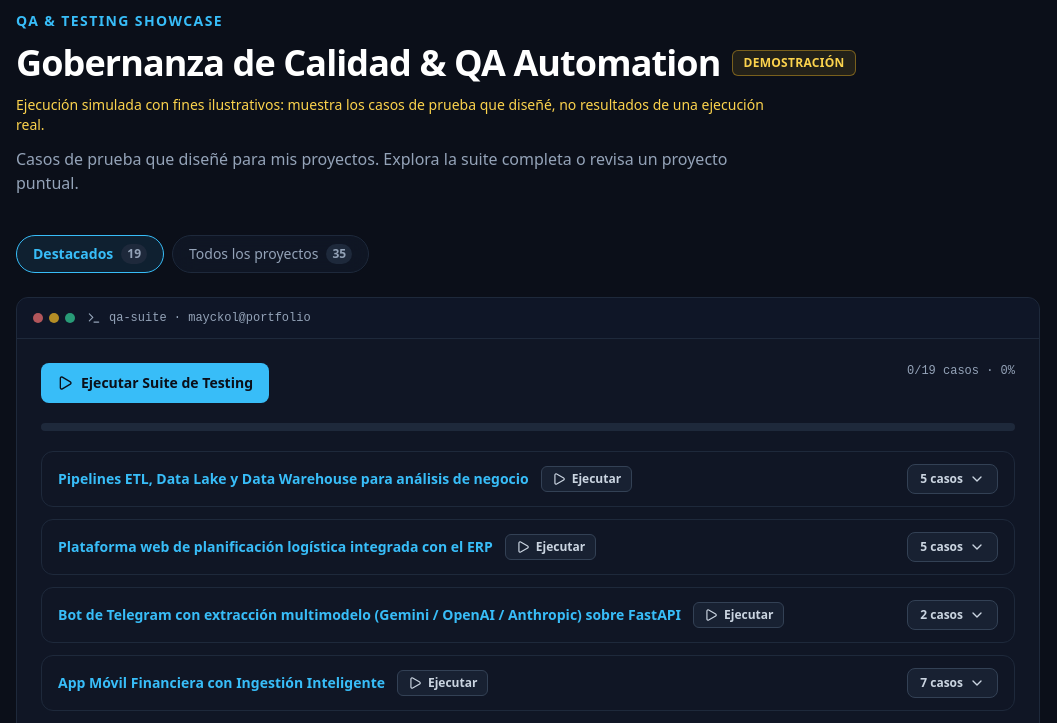
Scenario: QAShowcase › expande un grupo al pulsar su header y muestra los tags de tipo de prueba
Click the 1st button "5 casos" at [953, 479], box [907, 464, 998, 494]
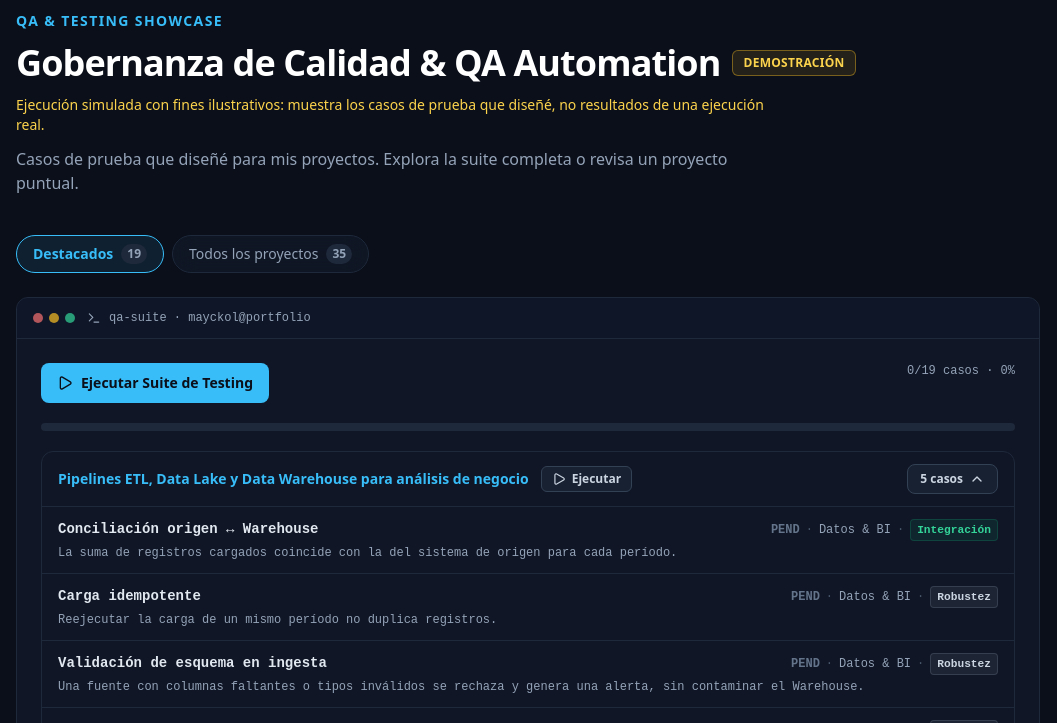
Expected: the button "5 casos" is expanded, [907, 464, 998, 494]
Expected: the text "Conciliación origen ↔ Warehouse" is shown, [58, 519, 318, 539]
Expected: the text "Integración" is shown, [910, 519, 998, 541]
